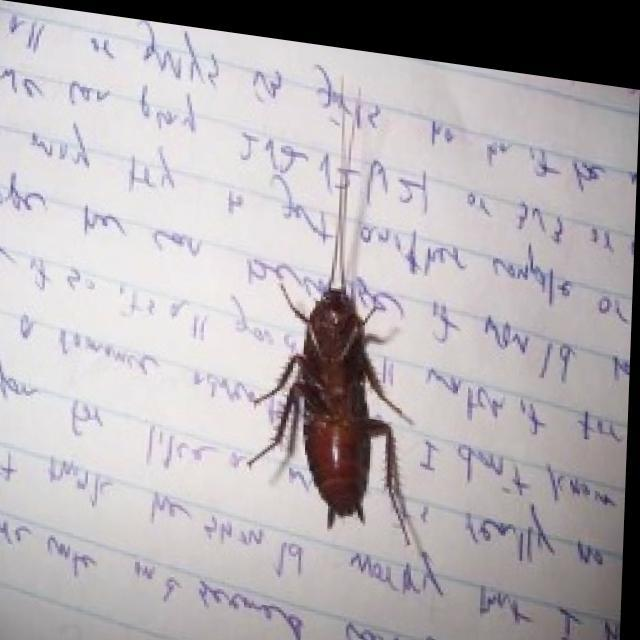cockroach: (194, 248, 453, 592)
